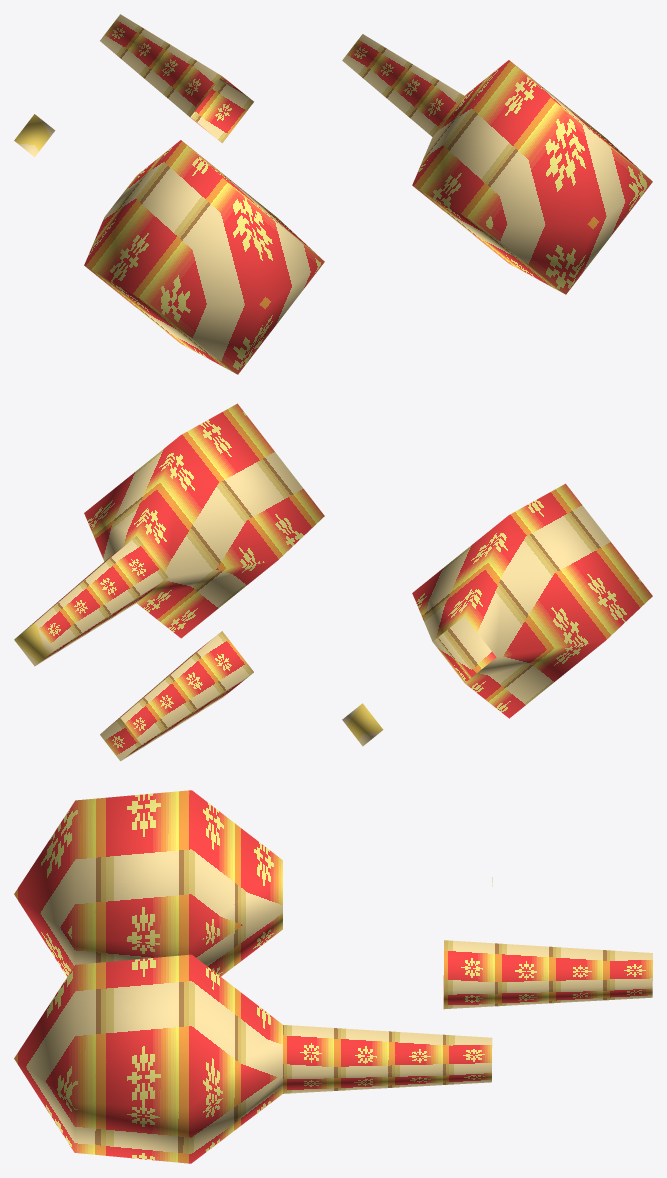
The model's file is 2739gakki08_e.gltf.
3 views of the same model, one above another, from view 1: azimuth 30°, elevation 25°; view 2: azimuth 150°, elevation 25°; view 3: azimuth 270°, elevation 25° (orthographic). The views are drawn at different scales.
Visible parts, largest first — view 1: 2739gakki08_e; view 2: 2739gakki08_e; view 3: 2739gakki08_e.
Part boxes in pixels (x1,y1,x2,y2): 2739gakki08_e: (14,14,652,374); 2739gakki08_e: (14,403,652,761); 2739gakki08_e: (14,790,652,1163).
Bounding box in the file's own units: 0.7754 × 0.2893 × 0.8005.
Materials: 1 (1 with a texture image).
